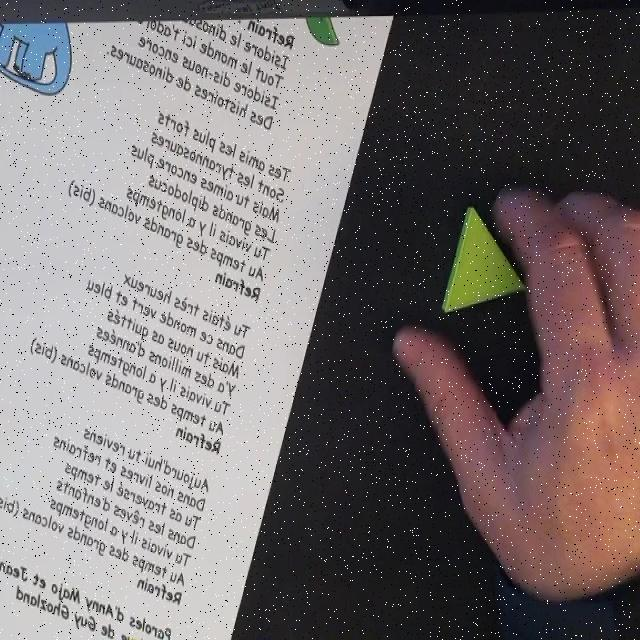triangle: (442, 204, 527, 316)
